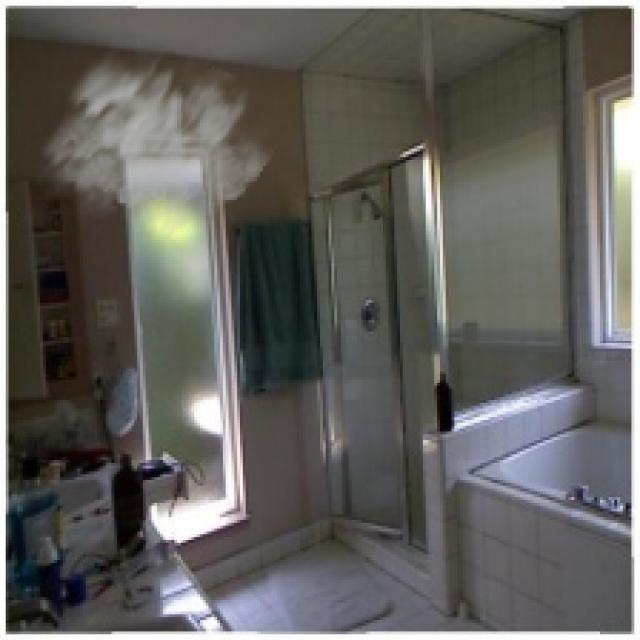smoke: (31, 26, 283, 240)
